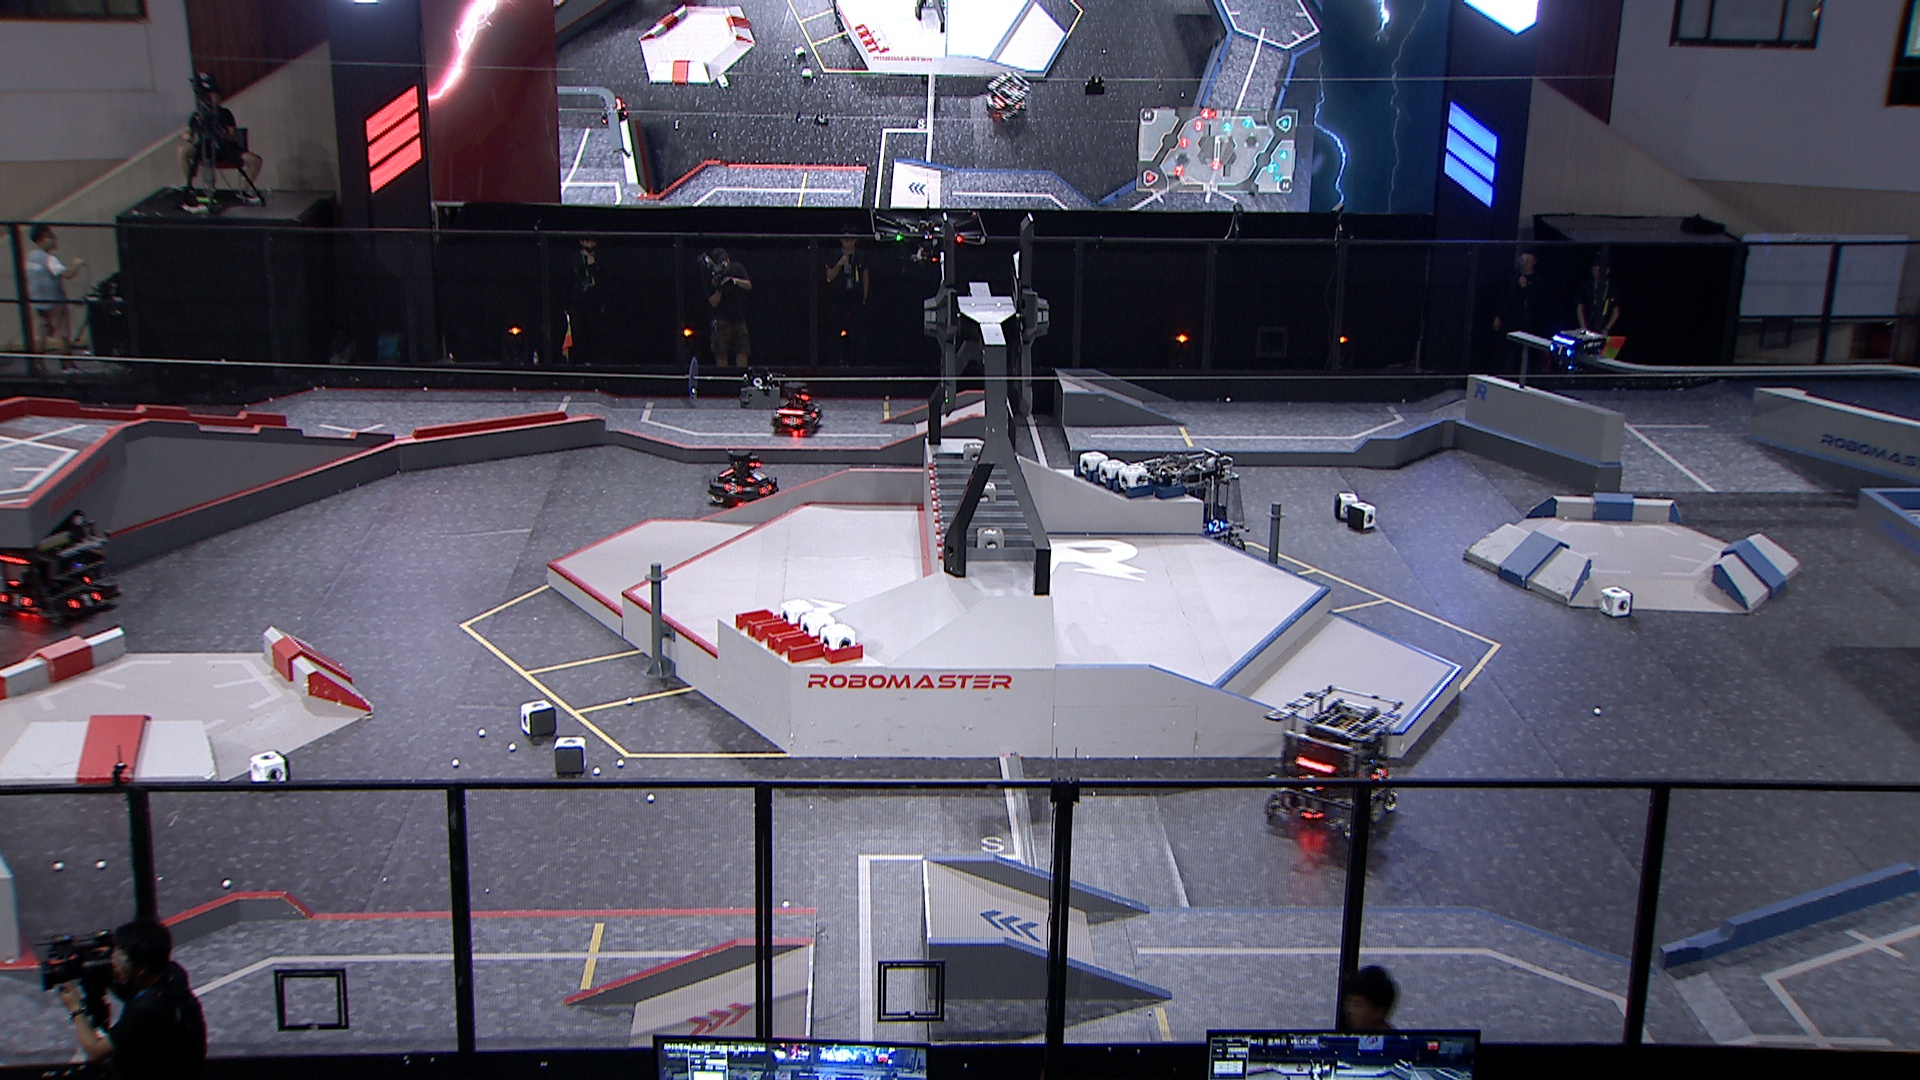armor: (65, 591, 103, 612), (1298, 774, 1327, 796), (1548, 342, 1575, 360), (723, 480, 744, 496), (779, 415, 804, 429), (745, 469, 766, 484), (1371, 766, 1389, 783), (1207, 518, 1225, 534), (760, 483, 775, 498)
car: (1263, 684, 1404, 843), (1147, 448, 1251, 559), (707, 450, 778, 506), (769, 382, 820, 436)
ignore: (984, 74, 1031, 125), (603, 96, 628, 127)
watcher: (1548, 328, 1605, 377)
